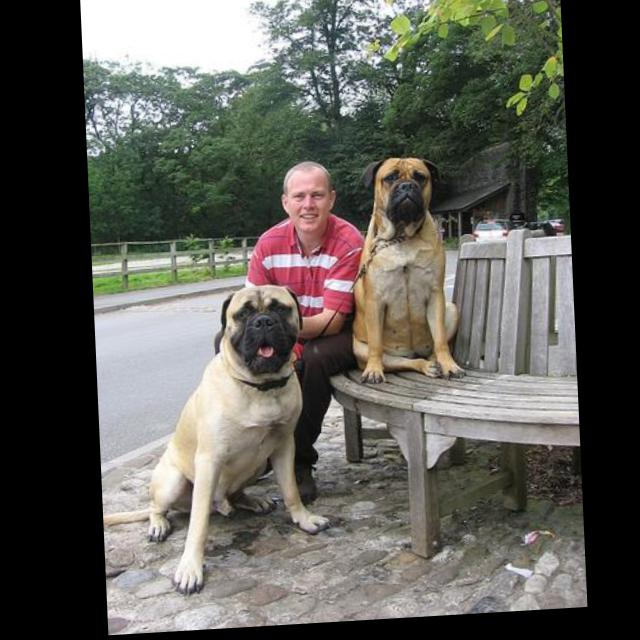bullmastiff: (91, 285, 328, 601), (343, 159, 465, 390)
face: (287, 171, 330, 237)
person: (238, 162, 373, 509)
